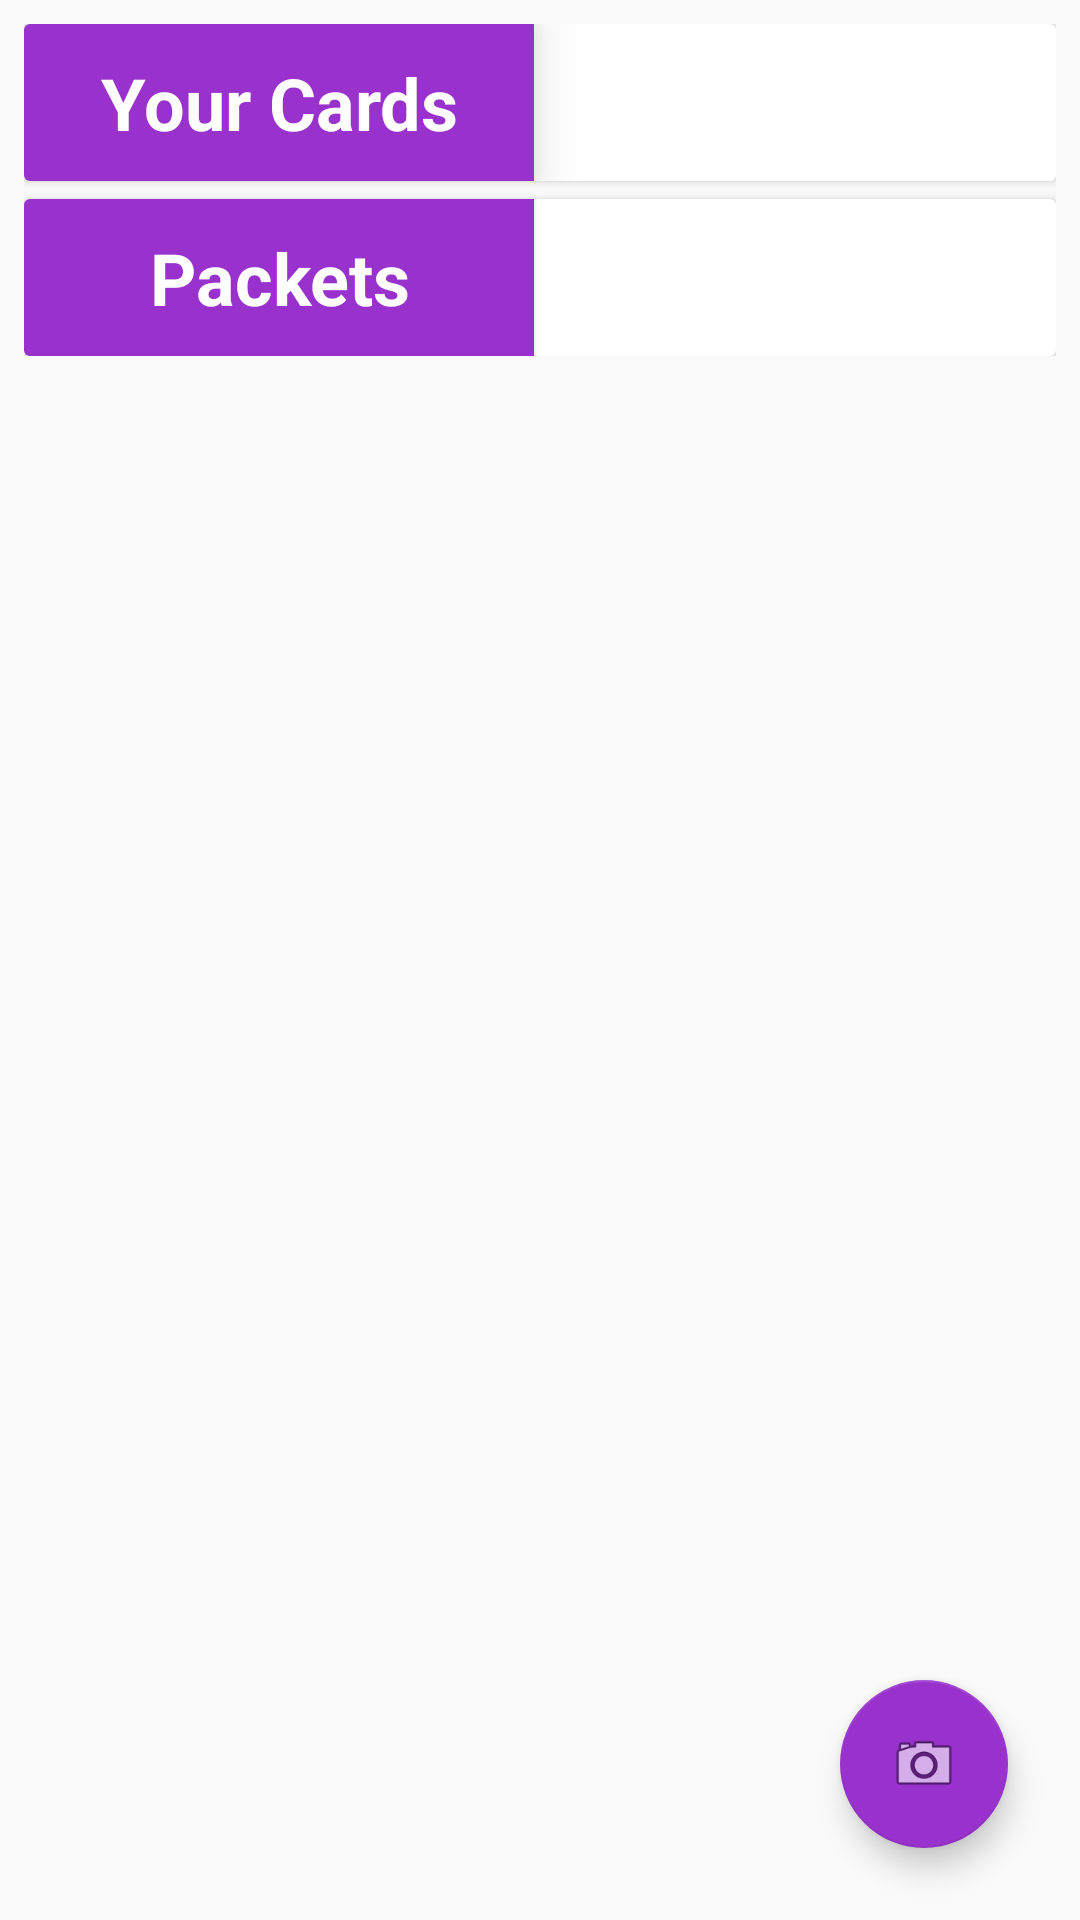

Icons on this 1080*1920 Android screen, each with its box as box(x1, y1, x2, y2):
camera: box(840, 1680, 1008, 1848)
